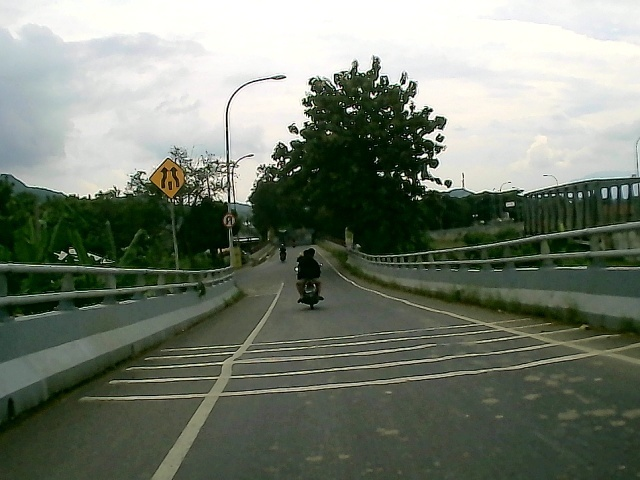Akhir bangunan pemisah satu arah: (149, 157, 190, 201)
